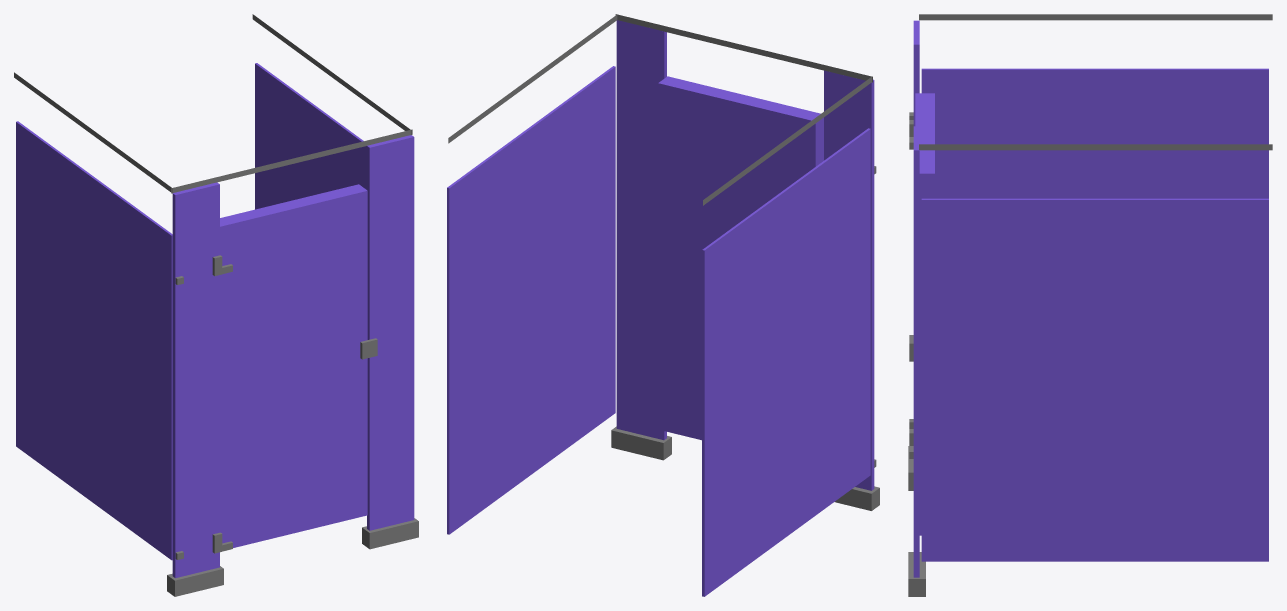
The model's file is bathroom_stall_final.fbx.
The picture shows the model from 3 angles, left to right: view 1: azimuth 30°, elevation 25°; view 2: azimuth 150°, elevation 25°; view 3: azimuth 270°, elevation 25°; orthographic projection. The views are drawn at different scales.
Visible parts, largest first — view 1: pPlane15, group1_pPlane9, pPlane2, pPlane3, pPlane4, pPlane5, pPlane10, pPlane14, pPlane16, pPlane6; view 2: pPlane4, pPlane15, group1_pPlane9, pPlane2, pPlane3, pPlane5, pPlane10, pPlane6, pPlane16, pPlane14; view 3: pPlane4, pPlane15, pPlane2, group1_pPlane9, pPlane16, pPlane6, pPlane10, pPlane3.
Part boxes in pixels (left/top/right/bottom): pPlane15: left=16, top=121, right=172, bottom=560; group1_pPlane9: left=220, top=184, right=377, bottom=551; pPlane2: left=367, top=135, right=414, bottom=530; pPlane3: left=172, top=182, right=219, bottom=578; pPlane4: left=255, top=63, right=366, bottom=209; pPlane5: left=171, top=129, right=412, bottom=193; pPlane10: left=362, top=518, right=418, bottom=549; pPlane14: left=167, top=566, right=223, bottom=596; pPlane16: left=14, top=72, right=172, bottom=193; pPlane6: left=252, top=14, right=411, bottom=134; pPlane4: left=447, top=66, right=615, bottom=534; pPlane15: left=702, top=128, right=870, bottom=596; group1_pPlane9: left=658, top=76, right=823, bottom=440; pPlane2: left=616, top=20, right=666, bottom=440; pPlane3: left=824, top=70, right=874, bottom=490; pPlane5: left=615, top=14, right=872, bottom=82; pPlane10: left=611, top=426, right=671, bottom=460; pPlane6: left=448, top=15, right=617, bottom=143; pPlane16: left=703, top=77, right=871, bottom=205; pPlane14: left=835, top=486, right=879, bottom=510; pPlane4: left=921, top=198, right=1268, bottom=561; pPlane15: left=921, top=68, right=1268, bottom=198; pPlane2: left=913, top=126, right=919, bottom=577; group1_pPlane9: left=909, top=93, right=934, bottom=535; pPlane16: left=919, top=14, right=1272, bottom=20; pPlane6: left=919, top=144, right=1272, bottom=150; pPlane10: left=908, top=552, right=925, bottom=596; pPlane3: left=913, top=20, right=919, bottom=126.
Bounding box in the file's own units: 152 × 241 × 176.
